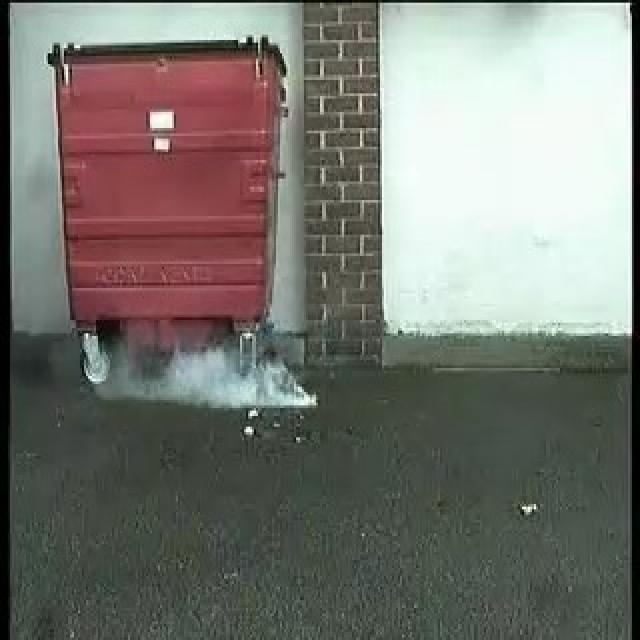smoke: (165, 341, 321, 409)
